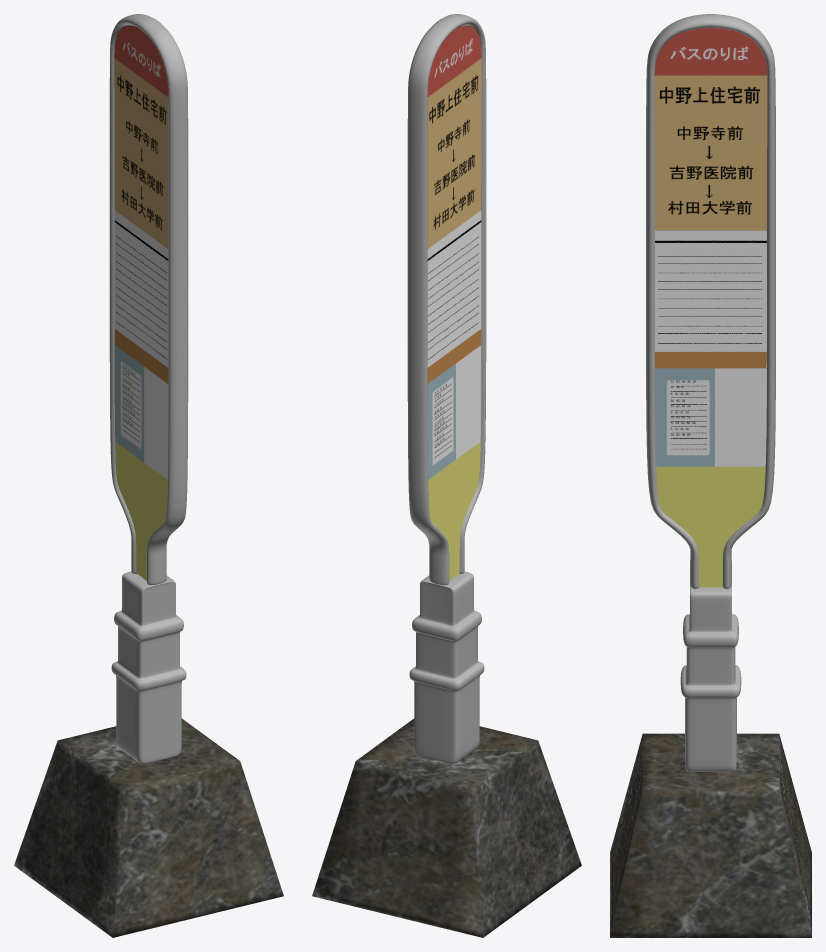
File: bus station.fbx
The picture shows the model from 3 angles, left to right: view 1: azimuth 30°, elevation 25°; view 2: azimuth 150°, elevation 25°; view 3: azimuth 270°, elevation 25°; orthographic projection. The views are drawn at different scales.
Parts seen in each view (by area): view 1: bus station; view 2: bus station; view 3: bus station.
Boxes of the visible parts, x1,y1,x2,y2 form: bus station: [14, 14, 283, 937]; bus station: [312, 14, 581, 937]; bus station: [610, 14, 811, 937].
Size of the model in its own units: 37.2 by 179 by 37.2.
4 materials, 3 textured.
